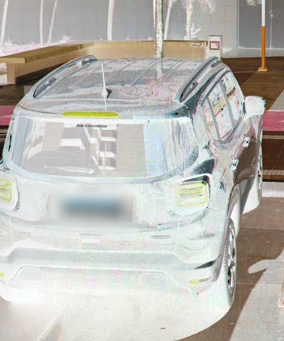car: (6, 53, 266, 319)
